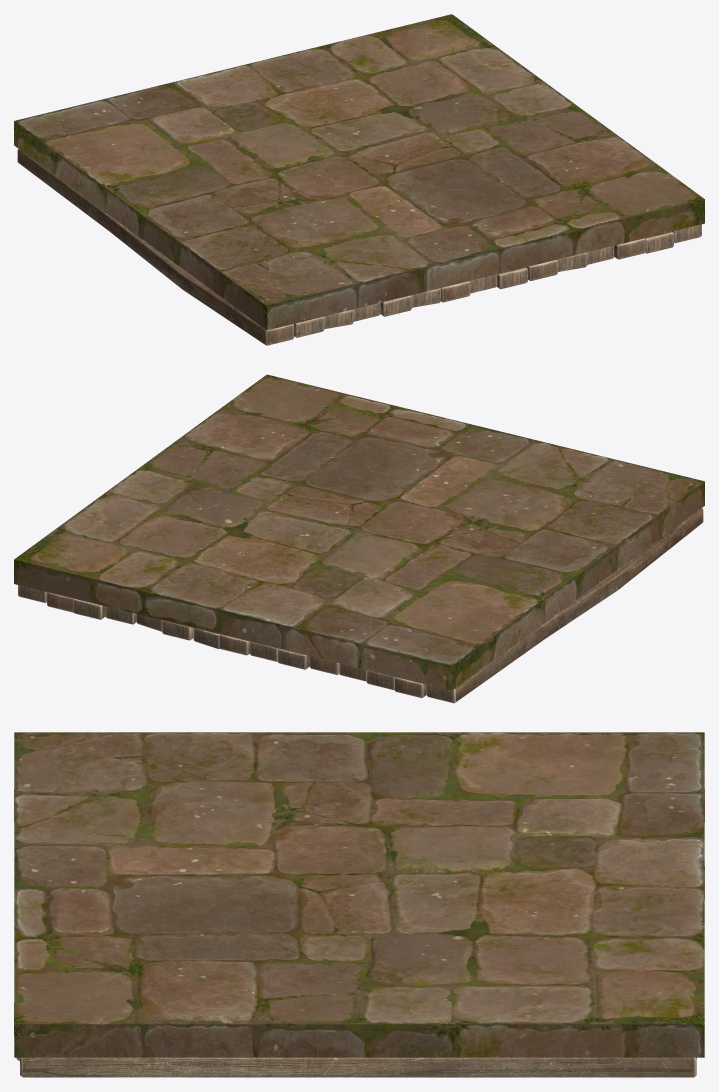
3 views of the same model, one above another, from view 1: azimuth 30°, elevation 25°; view 2: azimuth 150°, elevation 25°; view 3: azimuth 270°, elevation 25° (orthographic). The views are drawn at different scales.
Visible parts, largest first — view 1: SM_Human_Ruins_Floor_02_LOD0; view 2: SM_Human_Ruins_Floor_02_LOD0; view 3: SM_Human_Ruins_Floor_02_LOD0.
Boxes of the visible parts, x1,y1,x2,y2 form: SM_Human_Ruins_Floor_02_LOD0: [14, 14, 704, 345]; SM_Human_Ruins_Floor_02_LOD0: [14, 374, 704, 703]; SM_Human_Ruins_Floor_02_LOD0: [14, 732, 704, 1077].
Size of the model in its own units: 4 by 0.4332 by 4.
Materials: 2 (2 with a texture image).
